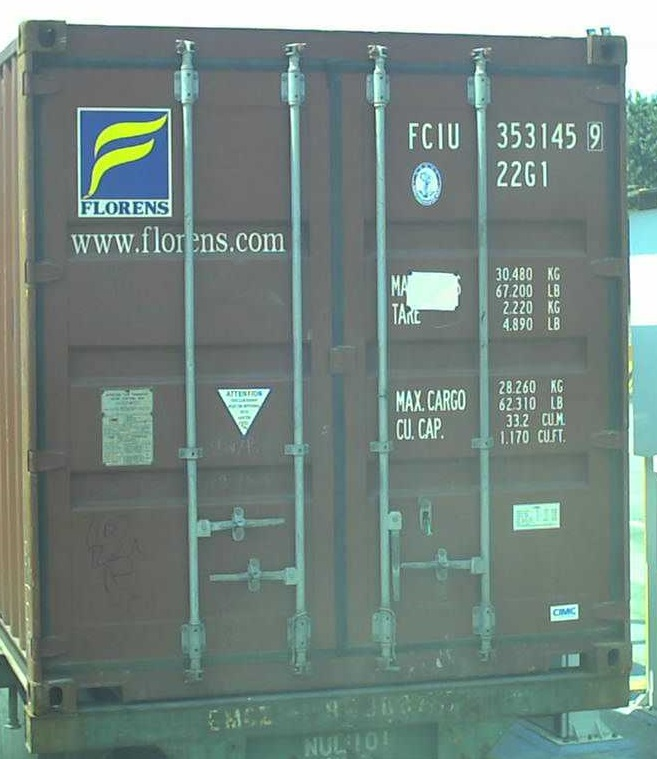container_door: (23, 11, 633, 720)
